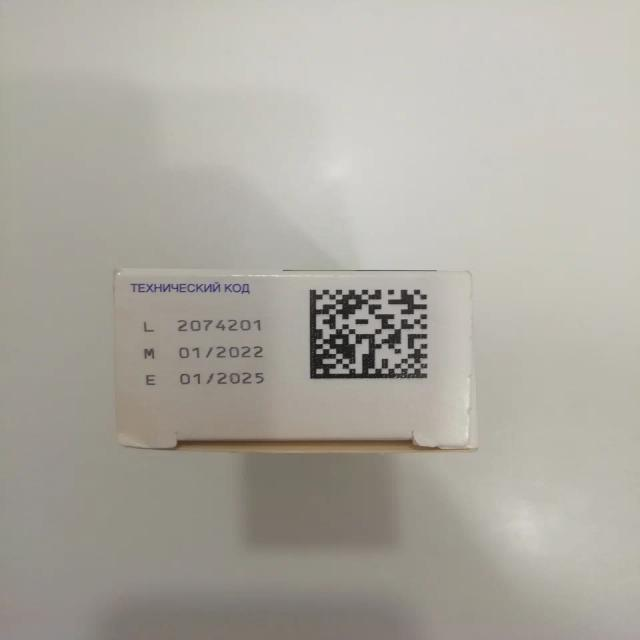datamatrix: (309, 287, 434, 383)
